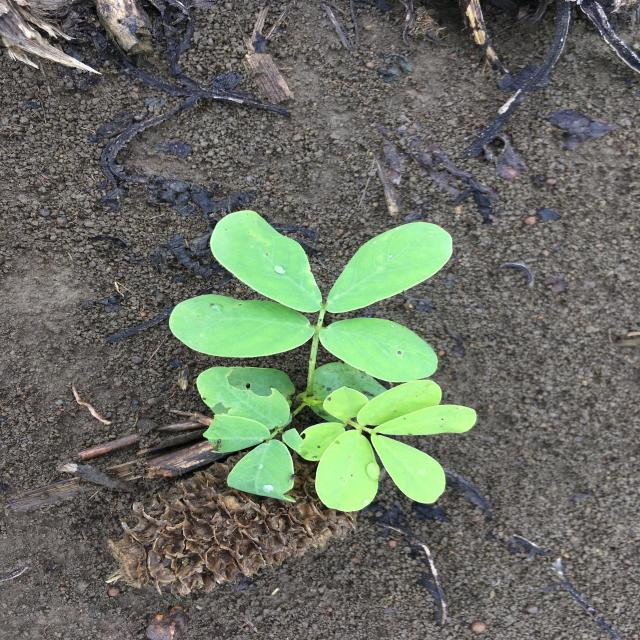Sicklepod: (169, 210, 477, 512)
